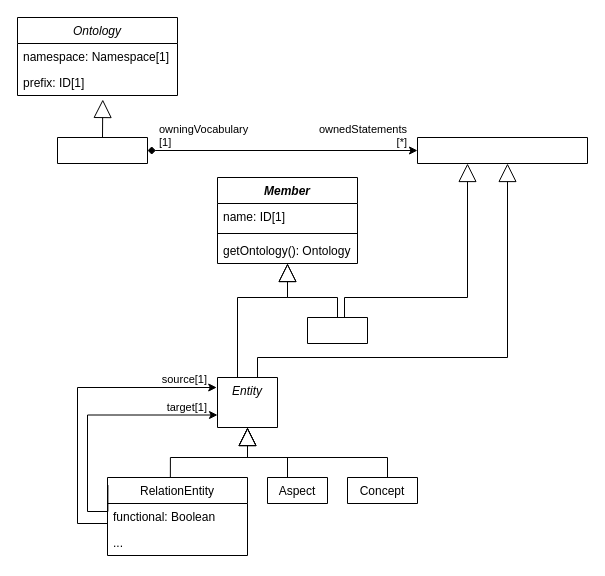
This 605x576 diagram has some shape labels left out. The shapes that lost their labels are listed below. From the top down, each one's centre as x and y in pixels, then its label:
At point 102,150: "Vocabulary".
At point 502,150: "VocabularyStatement".
At point 337,330: "Rule".
